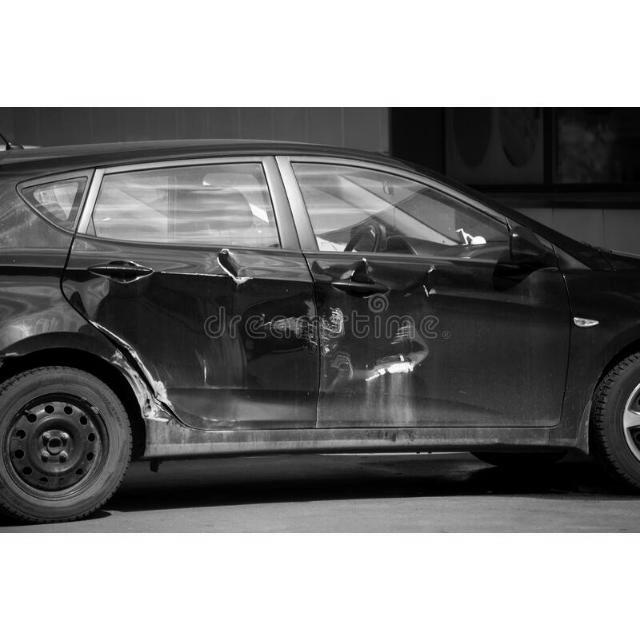doorouter-dent: (290, 245, 578, 465), (70, 247, 326, 462)
